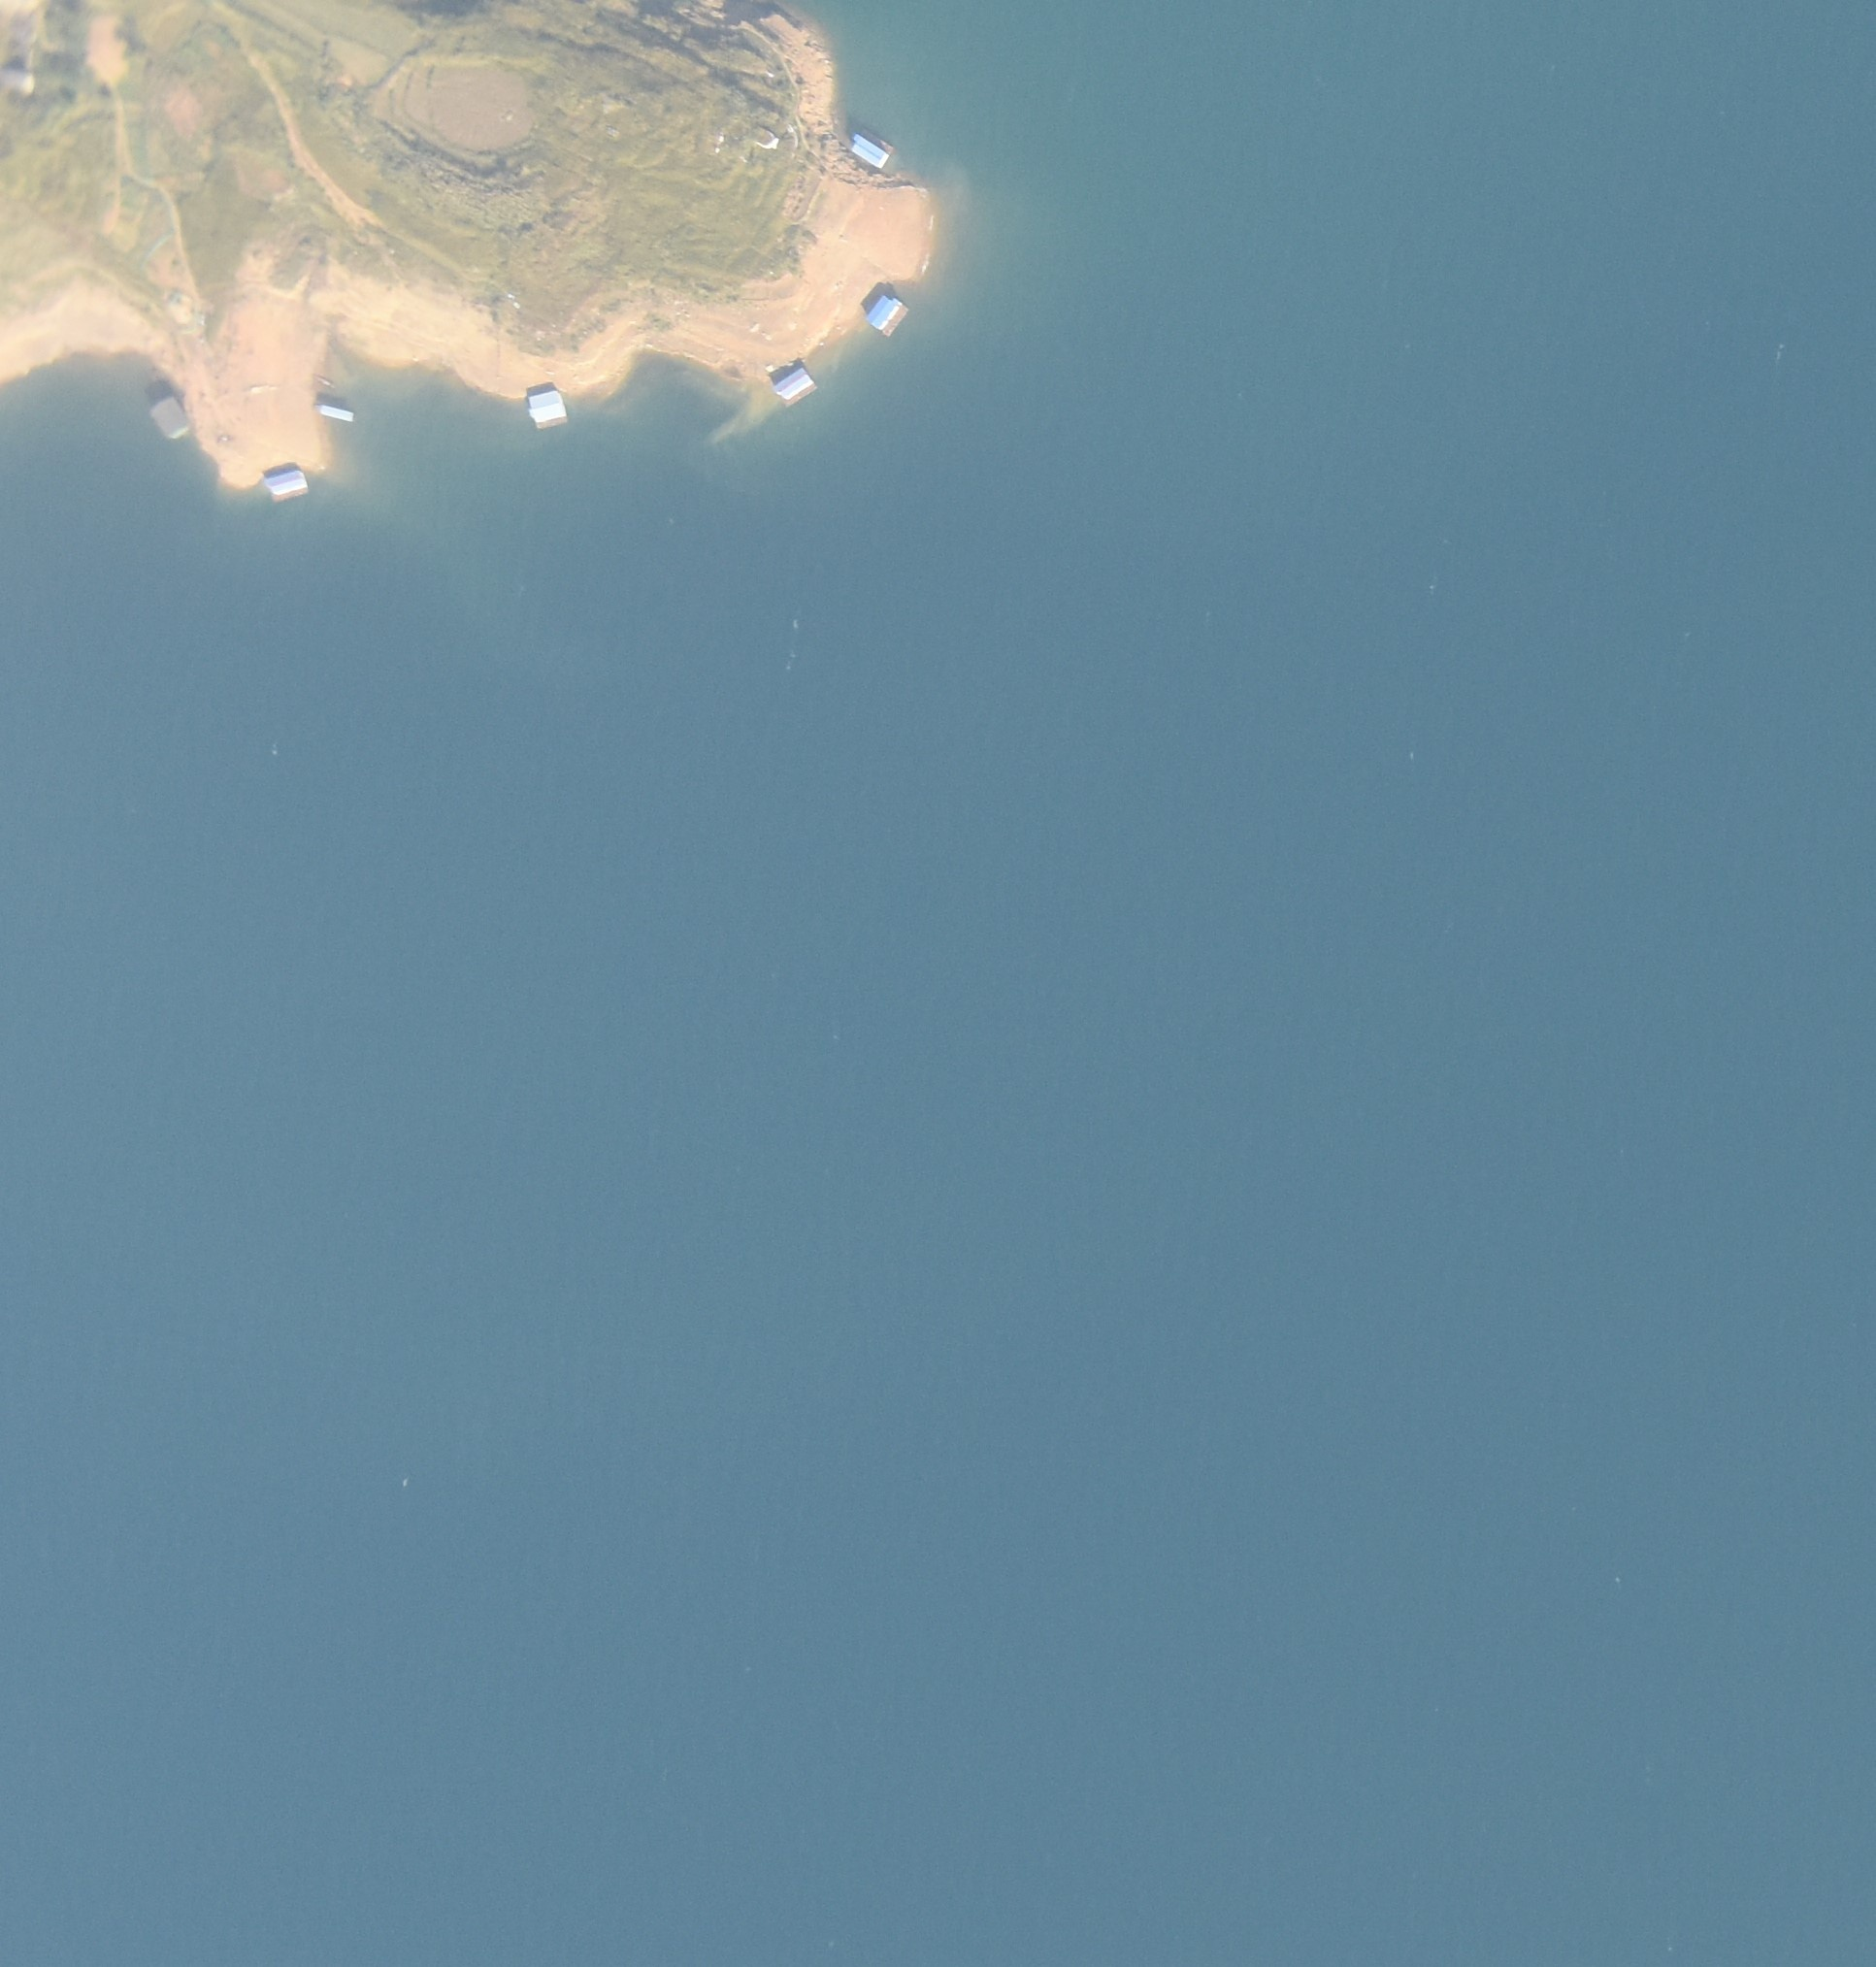prefabricated-house: (148, 397, 189, 441), (771, 368, 816, 401), (863, 293, 900, 333), (852, 133, 890, 168), (261, 469, 306, 498), (318, 400, 357, 426), (528, 392, 560, 421)
